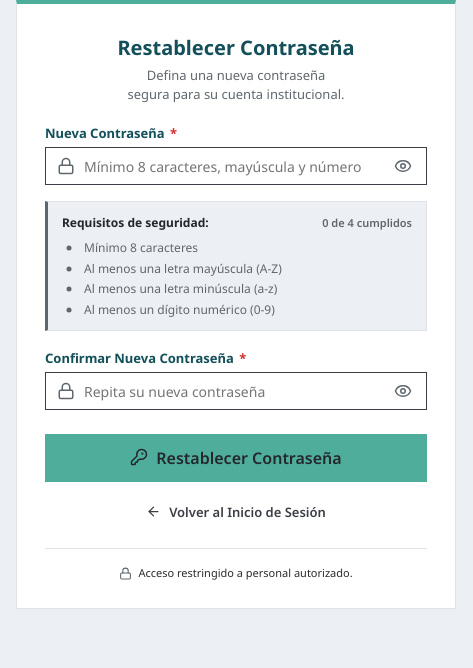
Test: RestablecerContrasenaForm (HU-65) › Cuando se provee token en la URL › debe validar que la contraseña tenga al menos 8 caracteres
Step 1. Type "Ab1!" into the password field labelled "Nueva Contraseña *" → (236, 166), box [45,147,427,185]
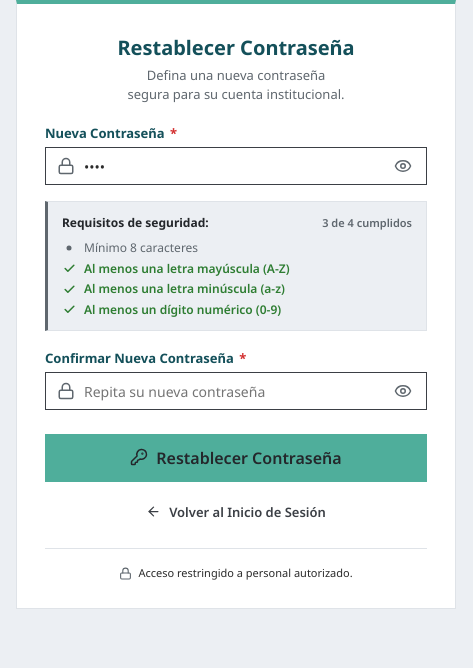
Step 2. Click the button "Restablecer Contraseña" → (236, 458), box [45,434,427,482]
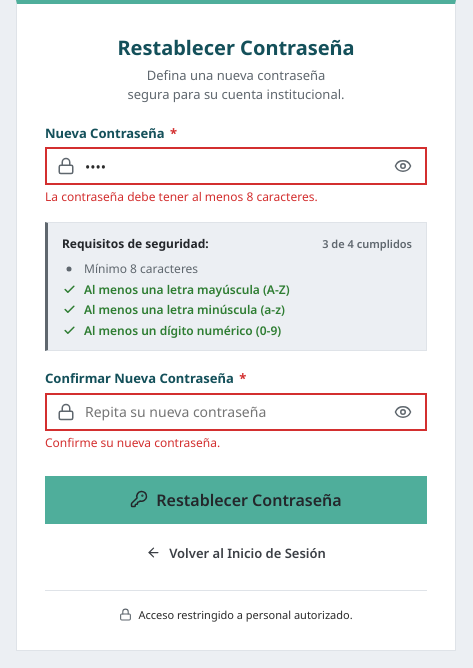
expect the text "La contraseña debe tener al menos 8 caracteres." is shown: met, box [45,188,318,205]
